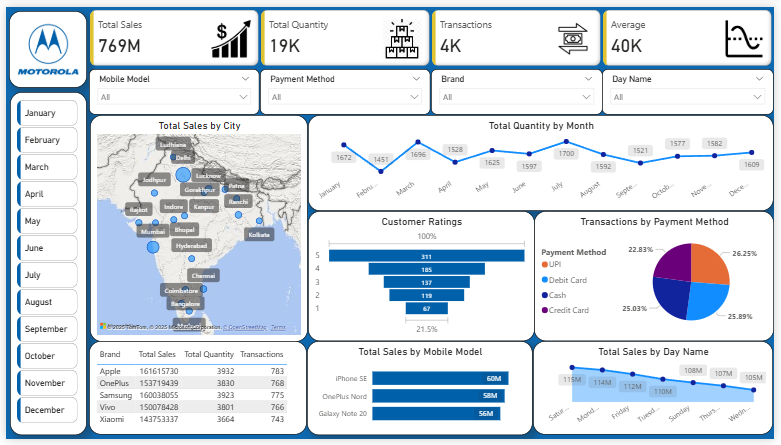

This screenshot's page, from the dashboard's own definition file:
{"tool":"powerbi","page":{"name":"Page 1","canvas":[1280,720],"ordinal":0},"visuals":[{"type":"shape","box":[4.5,6,129.9,128.4],"z":0},{"type":"image","box":[12.7,15.9,114.3,107.9],"z":1000},{"type":"shape","box":[6,141.8,128.4,571.6],"z":2000},{"type":"advancedSlicerVisual","fields":{"Values":["Sales Data.Date.Variation.Date Hierarchy.Month"]},"box":[13.4,150.7,111.9,553.7],"z":3000},{"type":"cardVisual","fields":{"Data":["Sales Data.Total Sales","Sales Data.Total Quantity","Sales Data.Transactions","Sales Data.Average"]},"box":[134.9,0,1146,103.2],"z":4000},{"type":"map","fields":{"Category":["Sales Data.City"],"Size":["Sales Data.Total Sales"]},"box":[139.7,179.4,363.5,377.8],"z":5000},{"type":"lineChart","fields":{"Y":["Sales Data.Total Quantity"],"Category":["Sales Data.Date.Variation.Date Hierarchy.Month","Sales Data.Date.Variation.Date Hierarchy.Day"]},"box":[503.2,179.4,776.2,160.3],"z":6000},{"type":"clusteredBarChart","fields":{"Category":["Sales Data.Mobile Model"],"Y":["Sales Data.Total Sales"]},"box":[501.6,557.1,376.2,157.1],"z":7000},{"type":"pieChart","fields":{"Category":["Sales Data.Payment Method"],"Y":["Sales Data.Transactions"]},"box":[879.4,339.7,400,217.5],"z":8000},{"type":"funnel","title":"Customer Ratings ","fields":{"Category":["Sales Data.Customer Ratings"],"Y":["CountNonNull(Sales Data.Customer Ratings)"]},"box":[503.2,339.7,377.8,217.5],"z":9000},{"type":"areaChart","fields":{"Category":["Sales Data.Day Name"],"Y":["Sales Data.Total Sales"]},"box":[877.8,557.1,400,155.6],"z":10000},{"type":"tableEx","fields":{"Values":["Sales Data.Brand","Sales Data.Total Sales","Sales Data.Total Quantity","Sales Data.Transactions"]},"box":[138.1,557.1,363.5,155.6],"z":11000},{"type":"slicer","fields":{"Values":["Sales Data.Mobile Model"]},"box":[138.1,103.2,284.1,76.2],"z":13000},{"type":"slicer","fields":{"Values":["Sales Data.Payment Method"]},"box":[423.8,103.2,284.1,76.2],"z":14000},{"type":"slicer","fields":{"Values":["Sales Data.Brand"]},"box":[707.9,103.2,285.7,76.2],"z":15000},{"type":"slicer","fields":{"Values":["Sales Data.Day Name"]},"box":[993.7,103.2,285.7,76.2],"z":16000}]}

Visuals, with their boxes in screenshot pixels (x1, y1, x2, y2), scaled from the page's 1280x720 canvas onto the 781x445 screenshot:
shape: [3, 4, 82, 83]
image: [8, 10, 77, 77]
shape: [4, 88, 82, 441]
advancedSlicerVisual - Sales Data.Date.Variation.Date Hierarchy.Month: [8, 93, 76, 435]
cardVisual - Sales Data.Total Sales x Sales Data.Total Quantity: [82, 0, 780, 64]
map - Sales Data.City x Sales Data.Total Sales: [85, 111, 307, 344]
lineChart - Sales Data.Total Quantity x Sales Data.Date.Variation.Date Hierarchy.Month: [307, 111, 780, 210]
clusteredBarChart - Sales Data.Mobile Model x Sales Data.Total Sales: [306, 344, 536, 441]
pieChart - Sales Data.Payment Method x Sales Data.Transactions: [537, 210, 780, 344]
"Customer Ratings " funnel: [307, 210, 538, 344]
areaChart - Sales Data.Day Name x Sales Data.Total Sales: [536, 344, 780, 440]
tableEx - Sales Data.Brand x Sales Data.Total Sales: [84, 344, 306, 440]
slicer - Sales Data.Mobile Model: [84, 64, 258, 111]
slicer - Sales Data.Payment Method: [259, 64, 432, 111]
slicer - Sales Data.Brand: [432, 64, 606, 111]
slicer - Sales Data.Day Name: [606, 64, 780, 111]
